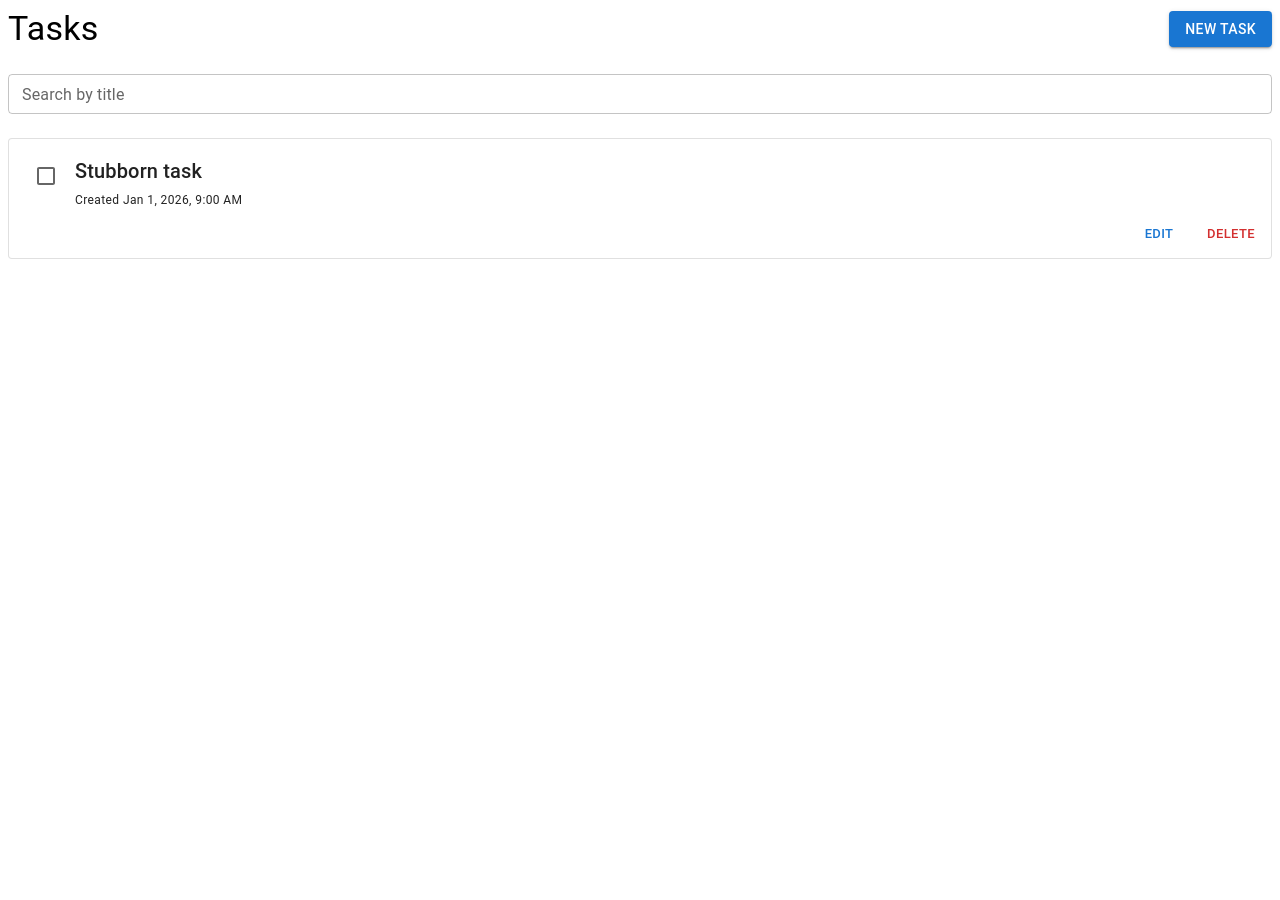
Test: TaskList › brings the task back and shows an error when the delete fails
Expected: the heading "Stubborn task" is shown, [75,159,202,183]
Step 1. Click the button named "Delete \"Stubborn task\"" → coordinates (1231, 234), box [1199,219,1263,250]
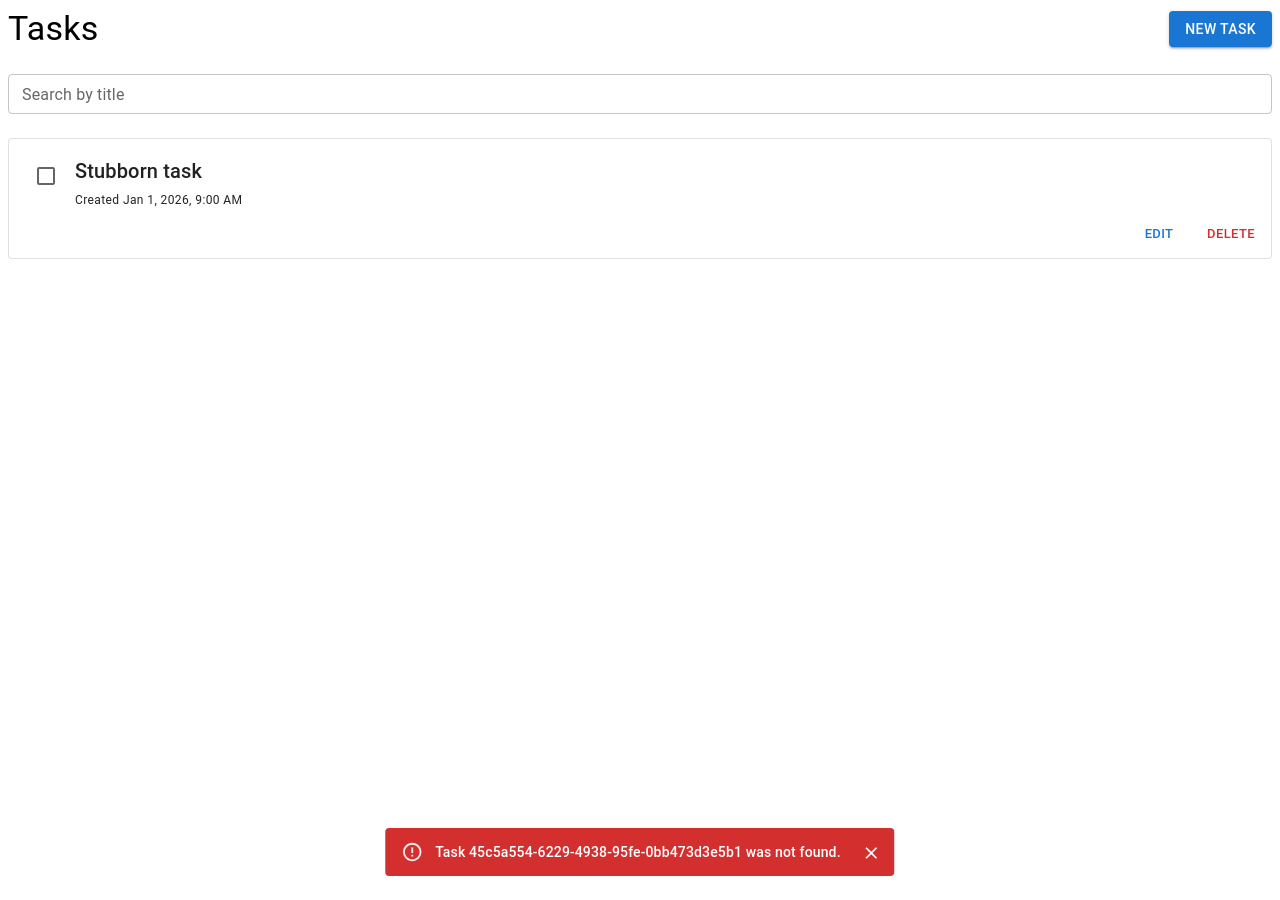
Expected: the element "Stubborn task" is shown, [8,138,1272,259]
Now the message shows "was not found", box [435,844,841,860]
